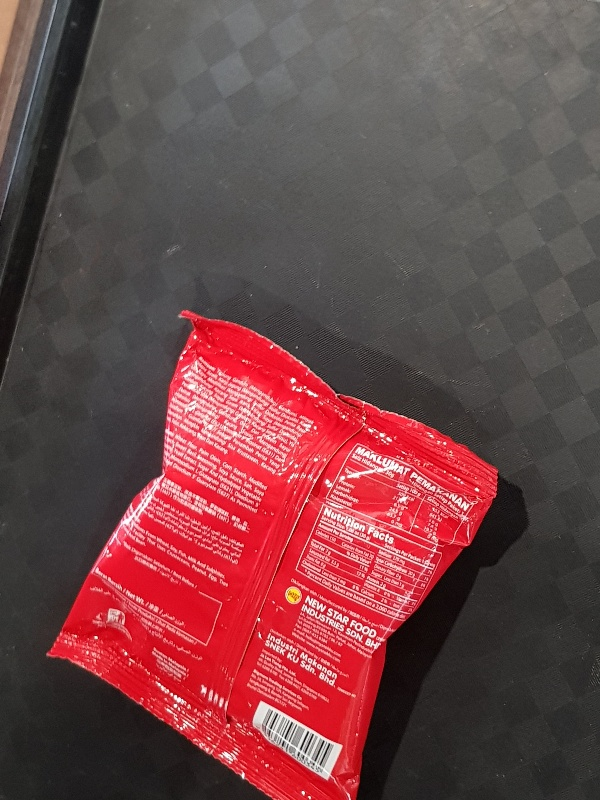ShoyueMi Spicy Flavoured Snacks: (43, 309, 497, 800)
